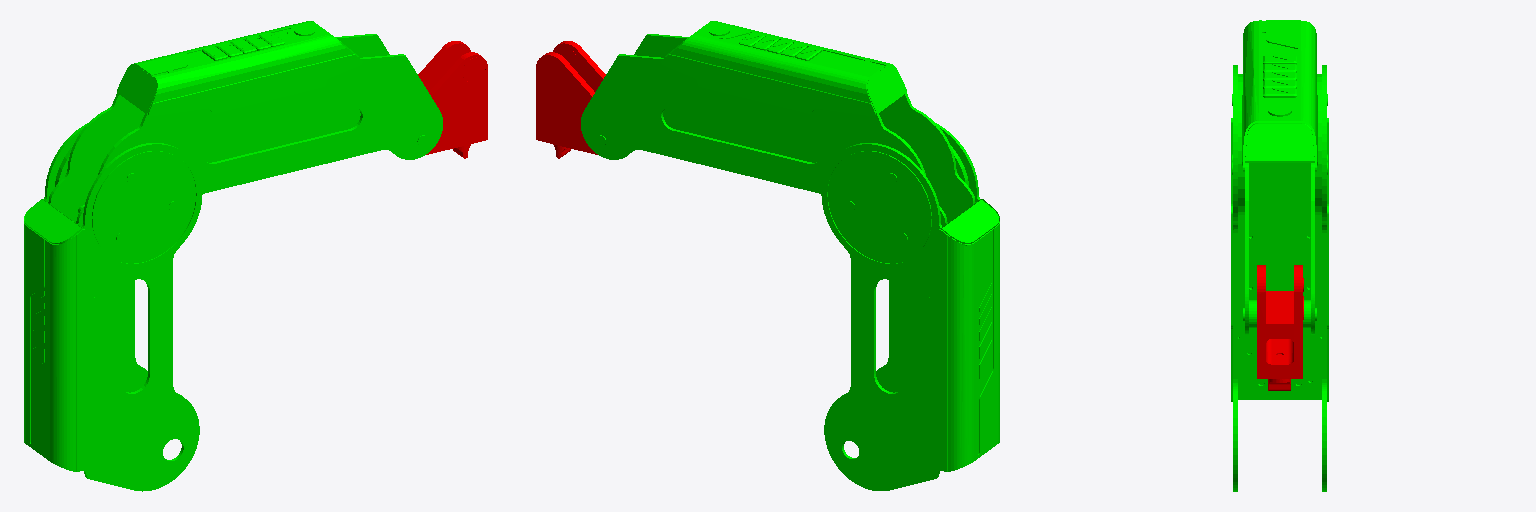
The robot description file, URDF, robot "magician":
<?xml version="1.0" ?>
<robot name="magician" xmlns:xi="http://www.w3.org/2001/XInclude">

  <material name="Red">
    <color rgba="1 0 0 1"/>
  </material>
  <material name="Green">
    <color rgba="0 1 0 1"/>
  </material>
  <material name="Blue">
    <color rgba="0 0 1 1"/>
  </material>
  <material name="Orange">
    <color rgba="1 0.6 0.0 1"/>
  </material>

  <link name="magician_root_link"/>
  <link name="magician_base_link">
    <visual>
      <origin rpy="0 0 0" xyz="0 0 0"/>
      <geometry>
        <mesh filename="package://dobot_kinematics/meshes/collision/core/magicianBase.dae"/>
      </geometry>
       <material name="Orange"/>
    </visual>
    <collision>
      <origin rpy="0 0 0" xyz="0 0 0"/>
      <geometry>
        <mesh filename="package://dobot_kinematics/meshes/collision/core/magicianBase.dae"/>
      </geometry>
      <material name="Orange"/>
    </collision>
  </link>
  <joint name="magician_joint_base" type="fixed">
    <parent link="magician_root_link"/>
    <child link="magician_base_link"/>
    <axis xyz="0 0 0"/>
    <limit effort="2000" lower="0" upper="0" velocity="1"/>
    <origin rpy="0 0 0" xyz="0 0 0"/>
    <dynamics damping="0.0" friction="0.0"/>
  </joint>
  <link name="magician_link_1">
    <visual>
      <origin rpy="0 0 0" xyz="0 0 0"/>
      <geometry>
        <mesh filename="package://dobot_kinematics/meshes/collision/core/magicianLink1.dae"/>
      </geometry>
             <material name="Green"/>
    </visual>
    <collision>
      <origin rpy="0 0 0" xyz="0 0 0"/>
      <geometry>
        <mesh filename="package://dobot_kinematics/meshes/collision/core/magicianLink1.dae"/>
      </geometry>
      <material name="Green"/>
    </collision>
  </link>
  <joint name="magician_joint_1" type="revolute">
    <parent link="magician_base_link"/>
    <child link="magician_link_1"/>
    <axis xyz="0 0 1"/>
    <limit effort="2000" lower="-2.1816615649929116" upper="2.1816615649929116" velocity="1"/>
    <origin rpy="0 0 0" xyz="0 0 0"/>
    <dynamics damping="0.0" friction="0.0"/>
  </joint>
  <link name="magician_link_2">
    <visual>
      <origin rpy="0 -0.3490658503988659 0" xyz="0 0 0"/>
      <geometry>
        <mesh filename="package://dobot_kinematics/meshes/collision/core/magicianLink2.dae"/>
      </geometry>
      <material name="Green"/>
    </visual>
    <collision>
      <origin rpy="0 -0.3490658503988659 0" xyz="0 0 0"/>
      <geometry>
        <mesh filename="package://dobot_kinematics/meshes/collision/core/magicianLink2.dae"/>
      </geometry>
      <material name="Green"/>
    </collision>
  </link>
  <joint name="magician_joint_2" type="revolute">
    <parent link="magician_link_1"/>
    <child link="magician_link_2"/>
    <axis xyz="0 1 0"/>
    <limit effort="2000" lower="-0.08726646259971647" upper="1.5707963267948966" velocity="1"/>
    <origin rpy="0 0.0 0" xyz="0 0 0.0"/>
    <dynamics damping="0.0" friction="0.0"/>
  </joint>
  <link name="magician_link_3">
    <visual>
      <origin rpy="0 -0.47123889803846897 0" xyz="0.01645236135969491 0 -0.13399373047157848"/>
      <geometry>
        <mesh filename="package://dobot_kinematics/meshes/collision/core/magicianLink3.dae"/>
      </geometry>
      <material name="Green"/>
    </visual>
    <collision>
      <origin rpy="0 -0.47123889803846897 0" xyz="0.01645236135969491 0 -0.13399373047157848"/>
      <geometry>
        <mesh filename="package://dobot_kinematics/meshes/collision/core/magicianLink3.dae"/>
      </geometry>
      <material name="Green"/>
    </collision>
  </link>
  <joint name="magician_joint_3" type="revolute">
    <parent link="magician_link_2"/>
    <child link="magician_link_3"/>
    <axis xyz="0 1 0"/>
    <limit effort="2000" lower="-0.2617993877991494" upper="1.2217304763960306" velocity="1"/>
    <origin rpy="0 0 0" xyz="0 0.0 0.135"/>
    <dynamics damping="0.0" friction="0.0"/>
  </joint>
  <joint name="magician_joint_mimic_1" type="revolute">
    <parent link="magician_link_3"/>
    <child link="magician_link_4"/>
    <axis xyz="0 1 0"/>
    <limit effort="2000" lower="-3.14159265359" upper="3.14159265359" velocity="1"/>
    <origin rpy="0 0 0" xyz="0.147 0 0"/>
    <dynamics damping="0.0" friction="0.0"/>
  </joint>
  <link name="magician_link_4">
    <visual>
      <origin rpy="0 0 0" xyz="-0.17715067840465534 0 -0.058595107267811"/>
      <geometry>
        <mesh filename="package://dobot_kinematics/meshes/collision/end_tools/link4_collision.dae"/>
      </geometry>
      <material name="Red"/>
    </visual>
    <collision>
      <origin rpy="0 0 0" xyz="-0.17715067840465534 0 -0.058595107267811"/>
      <geometry>
        <mesh filename="package://dobot_kinematics/meshes/collision/end_tools/link4_collision.dae"/>
      </geometry>
      <material name="Red"/>
    </collision>
  </link>
</robot>

--- Facts derived from the render (not from the file) ---
Views: 3 orthographic renders of the robot side by side, from view 1: azimuth 30°, elevation 25°; view 2: azimuth 150°, elevation 25°; view 3: azimuth 270°, elevation 25°.
Model magician with 6 links and 5 joints (4 revolute, 1 fixed), rooted at magician_root_link, posed every joint at zero.
Visible links, largest first — view 1: magician_link_2, magician_link_3, magician_link_4; view 2: magician_link_2, magician_link_3, magician_link_4; view 3: magician_link_2, magician_link_3, magician_link_4.
Boxes of the visible links, x1,y1,x2,y2 form: magician_link_2: (24,123,202,491); magician_link_3: (48,21,442,226); magician_link_4: (418,41,487,158); magician_link_2: (821,123,999,490); magician_link_3: (581,21,975,226); magician_link_4: (536,41,605,158); magician_link_2: (1231,65,1328,491); magician_link_3: (1242,20,1317,334); magician_link_4: (1257,265,1303,390).
Size in the robot's own frame: 0.2547 by 0.042 by 0.223 metres.
Meshes: 5 distinct files referenced, 3 mesh visuals loaded (3 Collada DAE); not drawn: 2 (reference not matched to a file when rendering).